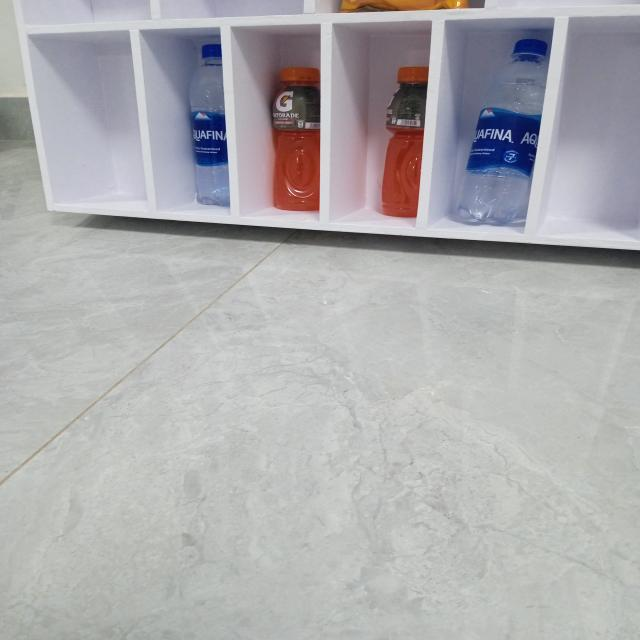Plastic: (462, 33, 542, 224), (266, 60, 320, 213), (185, 38, 228, 210), (382, 61, 426, 220)
